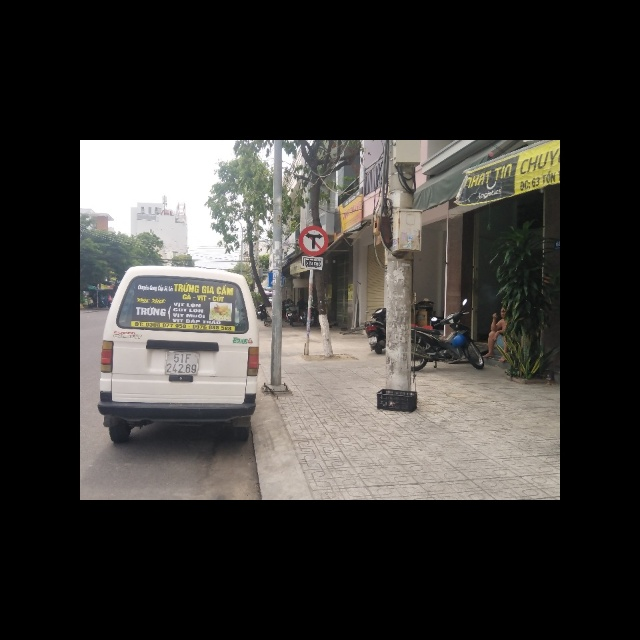Cấm rẽ trái và rẽ phải: (299, 225, 329, 256)
